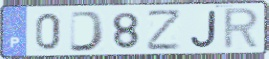0: (33, 11, 64, 52)
8: (110, 11, 143, 51)
D: (68, 10, 107, 53)
J: (188, 9, 218, 49)
R: (221, 6, 262, 52)
Z: (146, 8, 184, 52)
